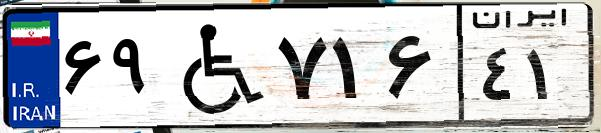1: (330, 28, 385, 110), (525, 38, 570, 115)
4: (475, 38, 525, 113)
6: (385, 28, 445, 110), (57, 26, 110, 100)
7: (270, 28, 330, 110)
9: (110, 28, 158, 98)
ژ (معلولین و جانبازان): (158, 12, 270, 120)
